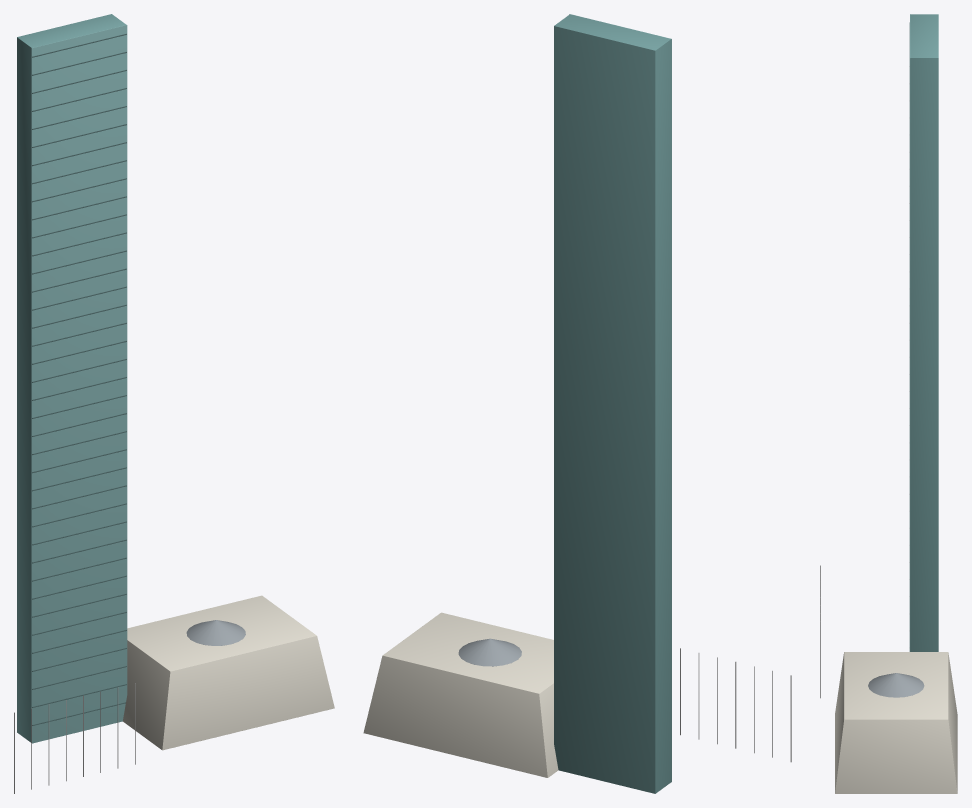
File: marco_onu.glb
3 views of the same model, side by side, from view 1: azimuth 30°, elevation 25°; view 2: azimuth 150°, elevation 25°; view 3: azimuth 270°, elevation 25° (orthographic). The views are drawn at different scales.
Visible parts, largest first — view 1: marco_onu; view 2: marco_onu; view 3: marco_onu.
Boxes of the visible parts, x1,y1,x2,y2 form: marco_onu: (14, 14, 334, 793); marco_onu: (363, 14, 791, 793); marco_onu: (820, 14, 957, 793).
Size of the model in its own units: 76.07 by 154 by 29.07.
